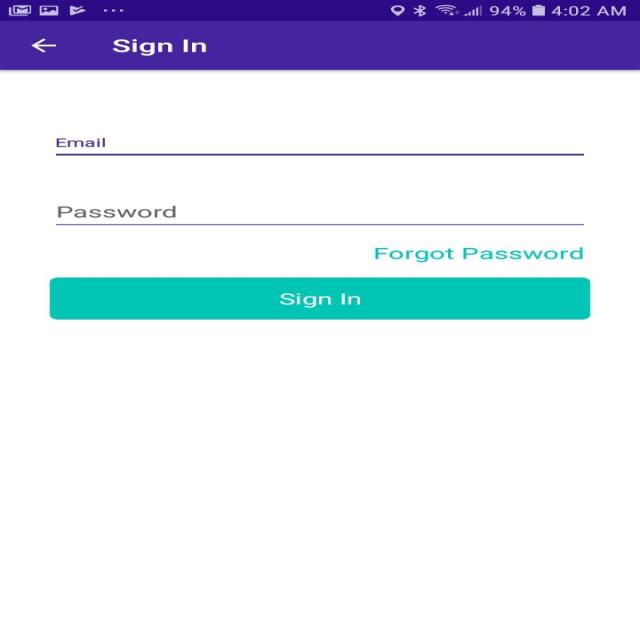EditText: (55, 204, 584, 226), (55, 138, 584, 156)
Icon: (30, 38, 57, 53)
Text: (374, 247, 583, 262), (112, 38, 206, 56), (57, 205, 176, 218), (56, 138, 106, 148)
TextButton: (48, 278, 590, 320)
